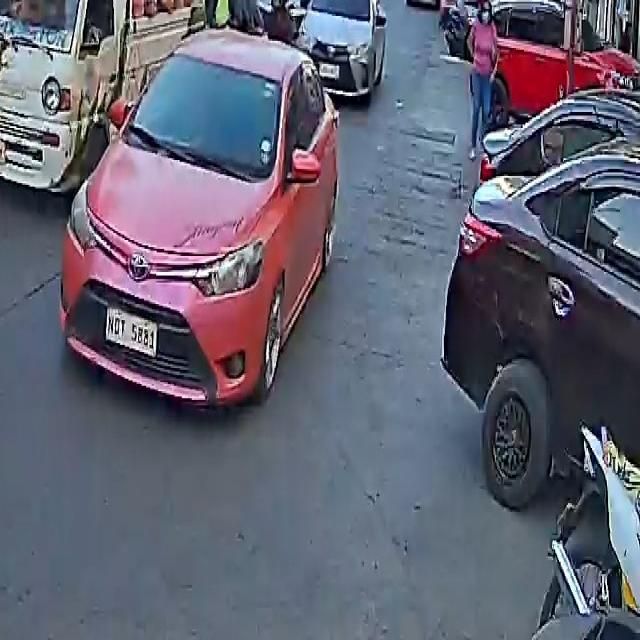car: (59, 32, 350, 409), (443, 125, 640, 586), (488, 0, 637, 119), (297, 0, 390, 101), (247, 0, 308, 32), (404, 0, 443, 4)
